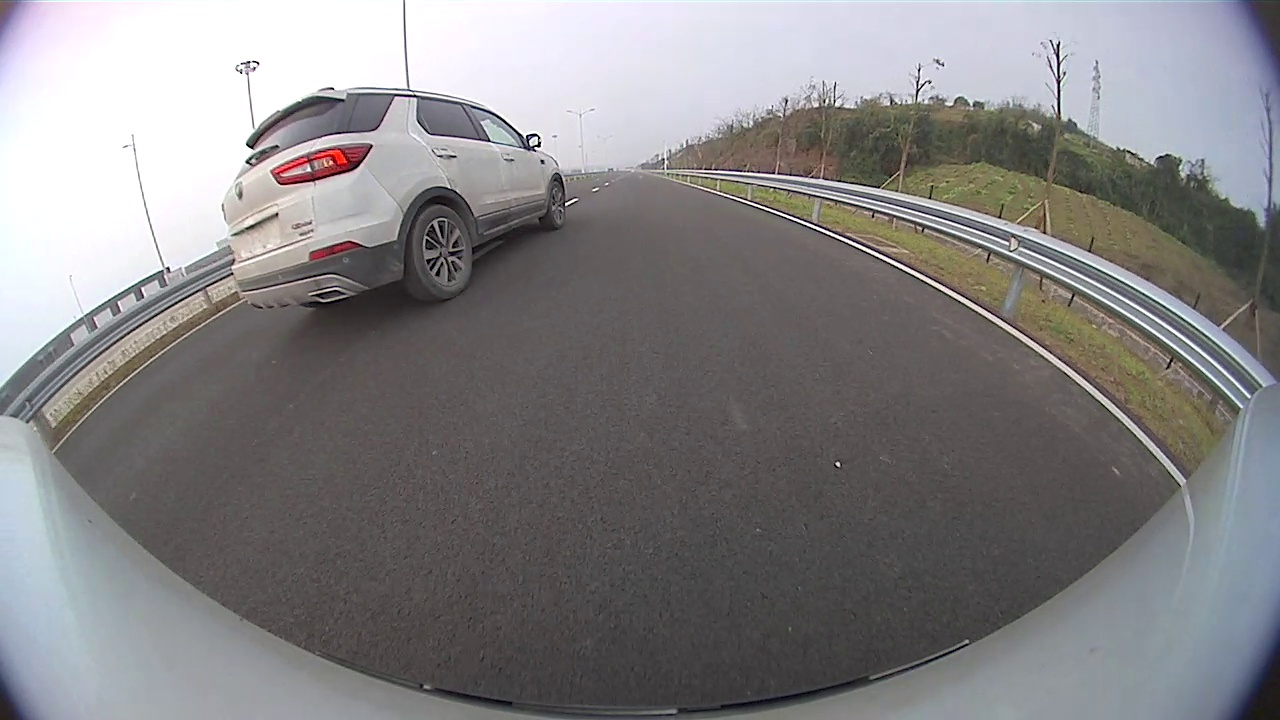car: (220, 88, 568, 311)
front: (544, 175, 571, 233)
rear: (405, 205, 476, 304)
